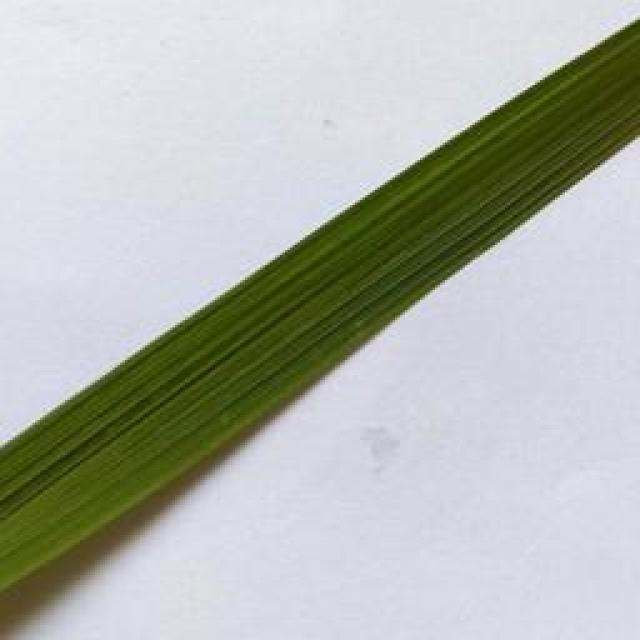Healthy-Plant: (0, 18, 640, 590)
